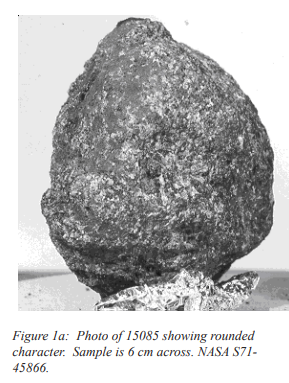Basalt: (31, 22, 285, 309)
